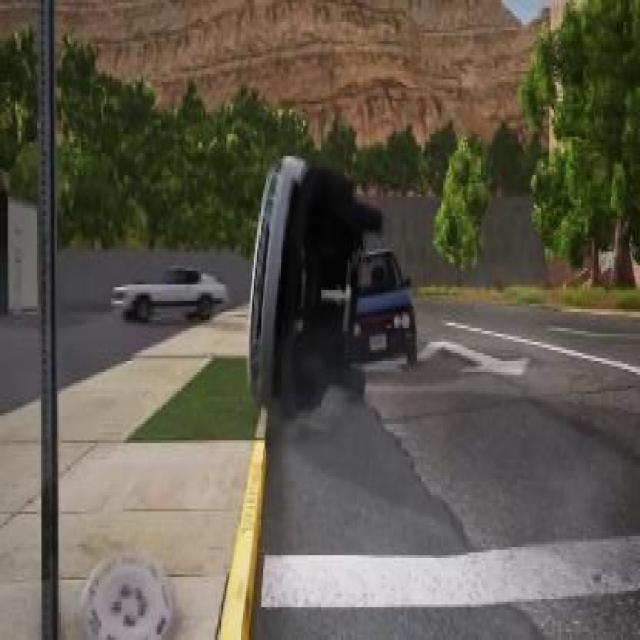accident: (240, 145, 423, 418)
